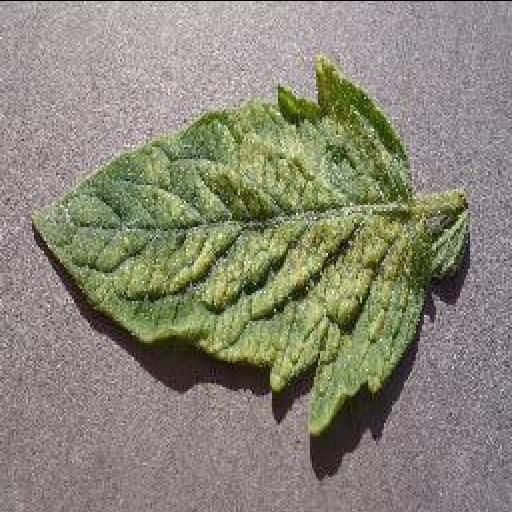disease_tomato: (28, 56, 434, 434)
